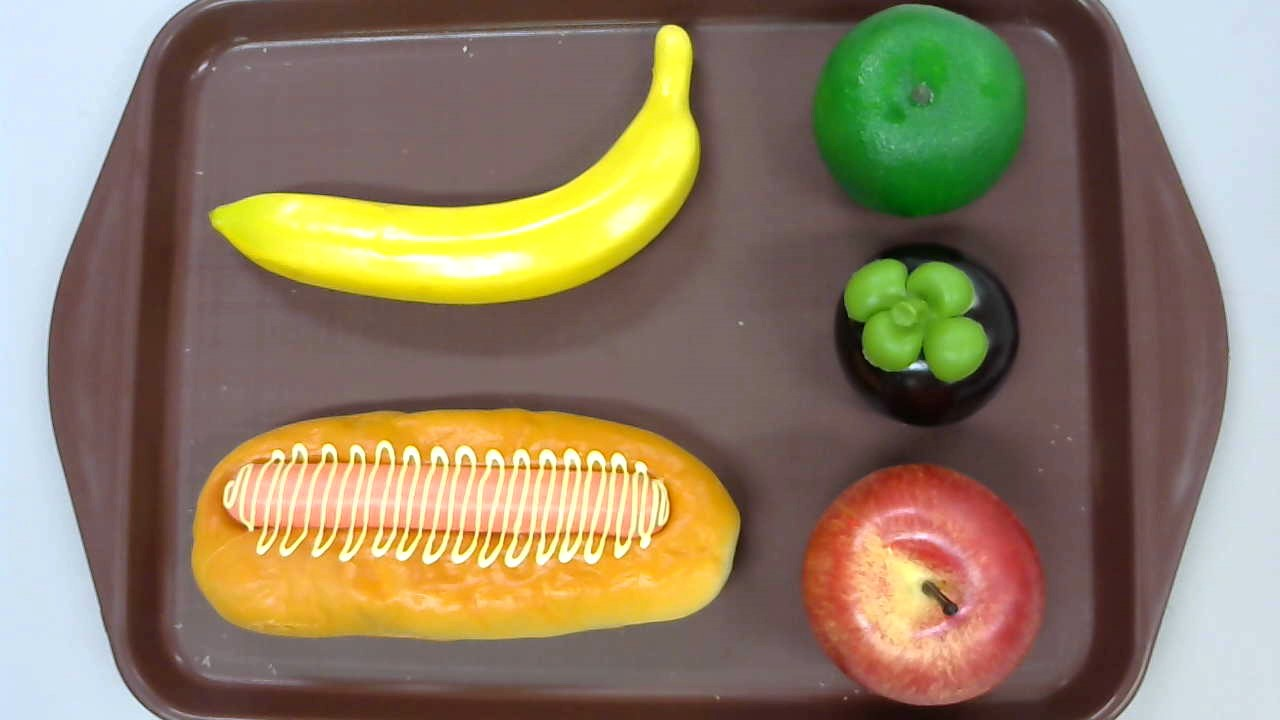banana: (207, 23, 700, 304)
green orange: (812, 3, 1026, 217)
hot dog: (191, 406, 740, 643)
mangosteen: (833, 244, 1022, 429)
red apple: (802, 464, 1045, 709)
